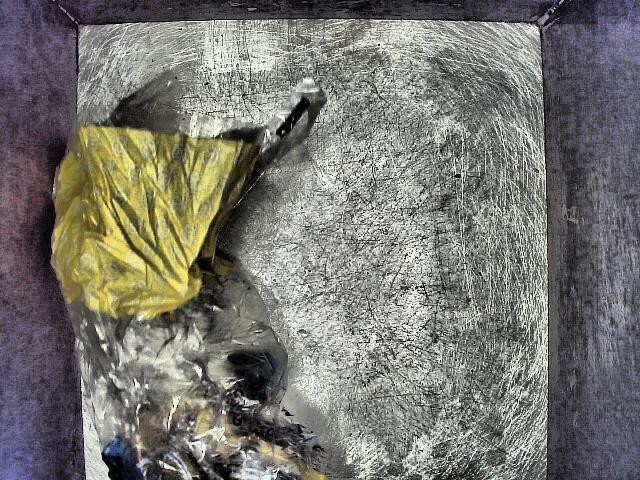Plastic: (39, 95, 346, 480)
